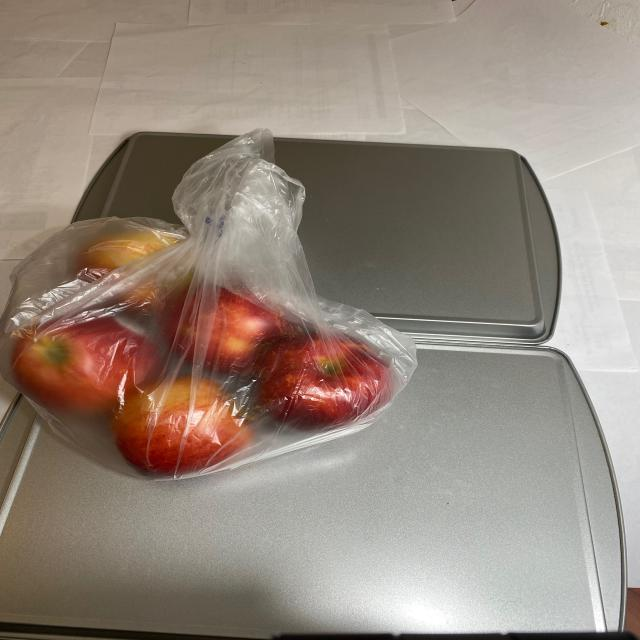apple: (7, 184, 400, 487)
